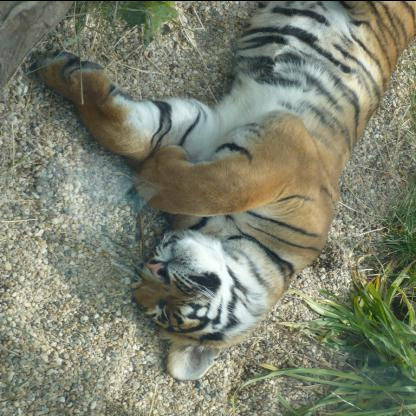tiger: (113, 233, 296, 364)
